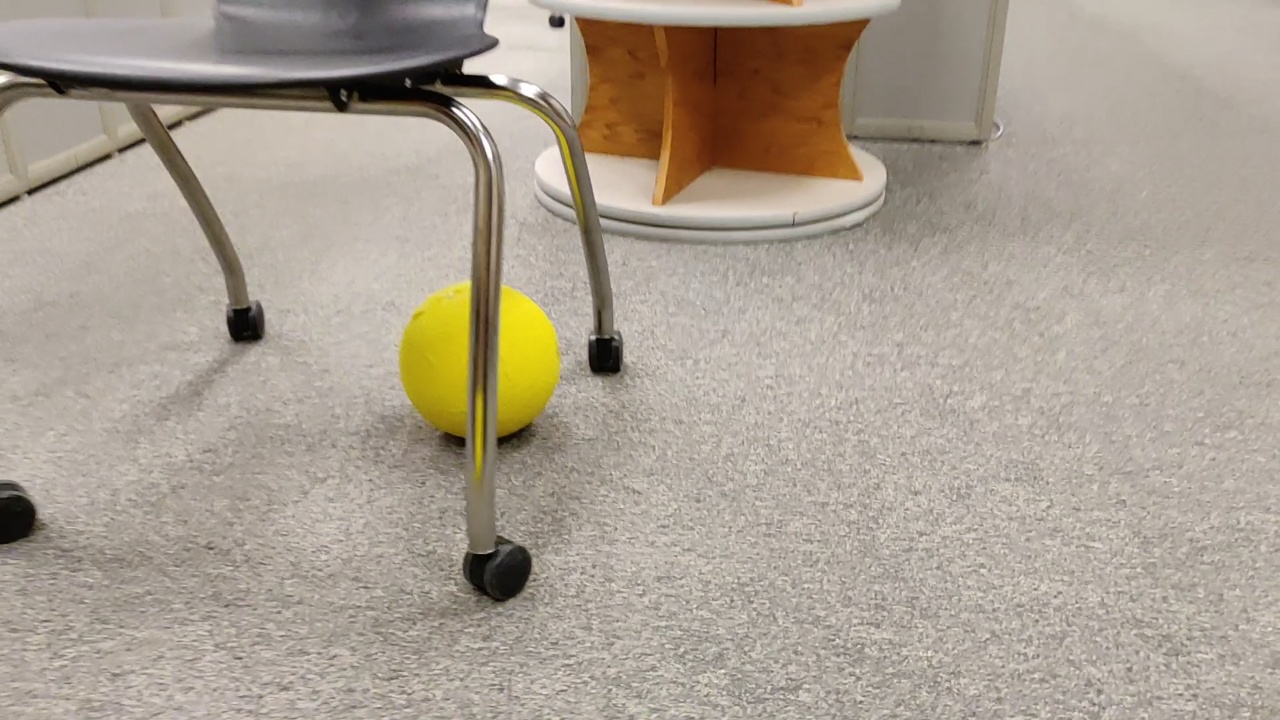Ball: (399, 282, 558, 445)
